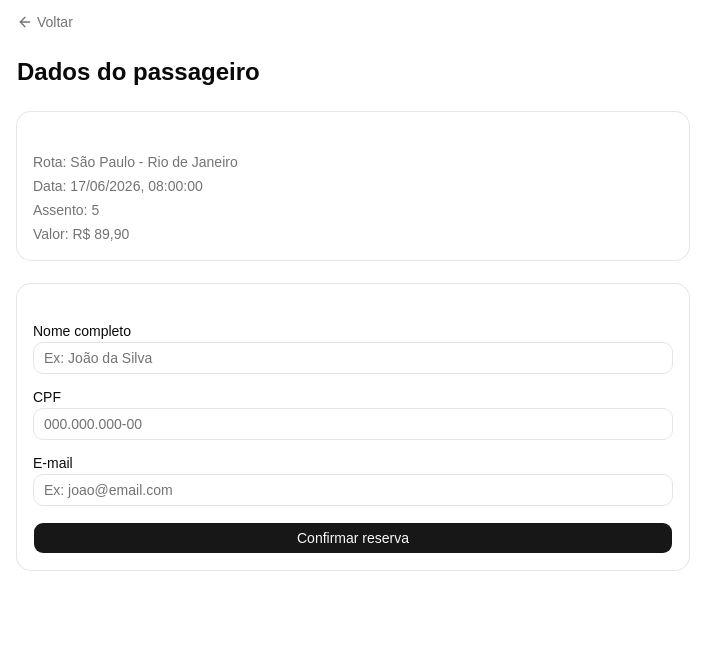
Scenario: PassengerFormPage › deve exibir erro para CPF inválido
Type "123.456.789-00" into the field labelled "CPF".
click(353, 424); type("123.456.789-00")  # box left=33, top=408, right=673, bottom=440
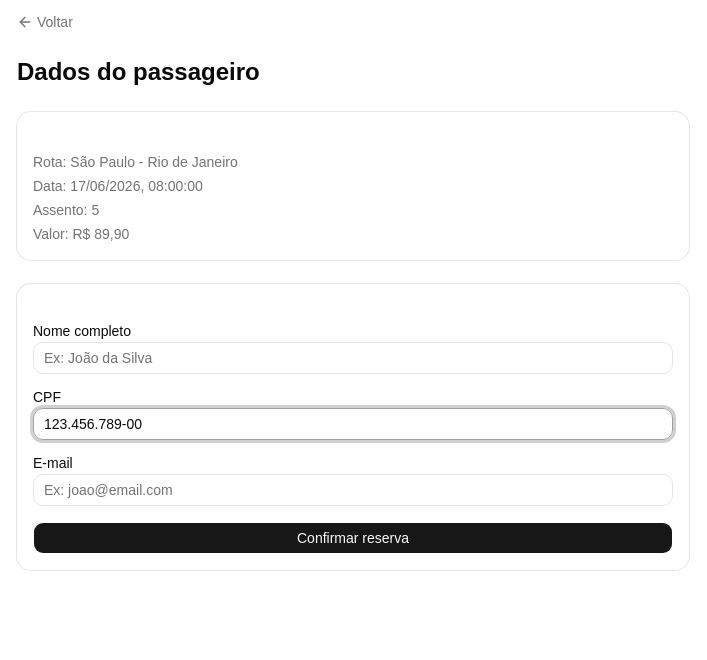
Click the button "Confirmar reserva".
click(353, 538)  # box left=33, top=522, right=673, bottom=554
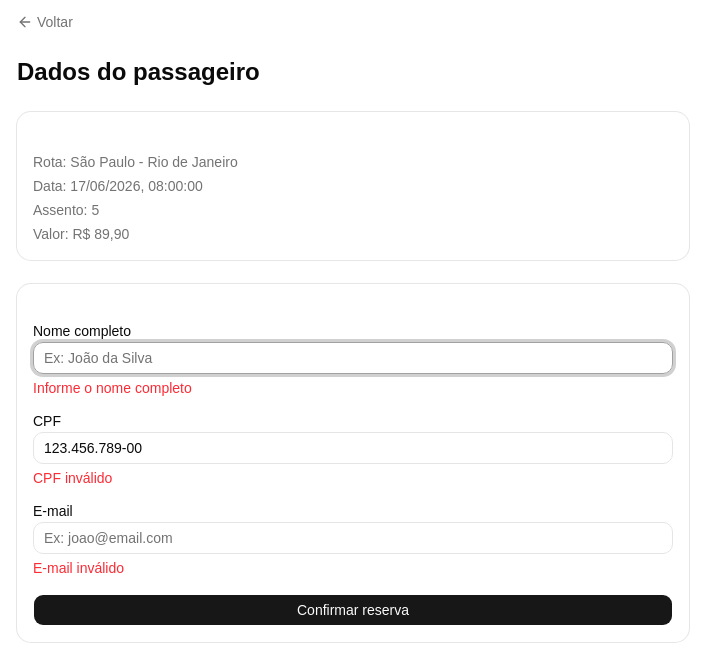
Check: the text "CPF inválido" is shown, box left=33, top=470, right=112, bottom=486
